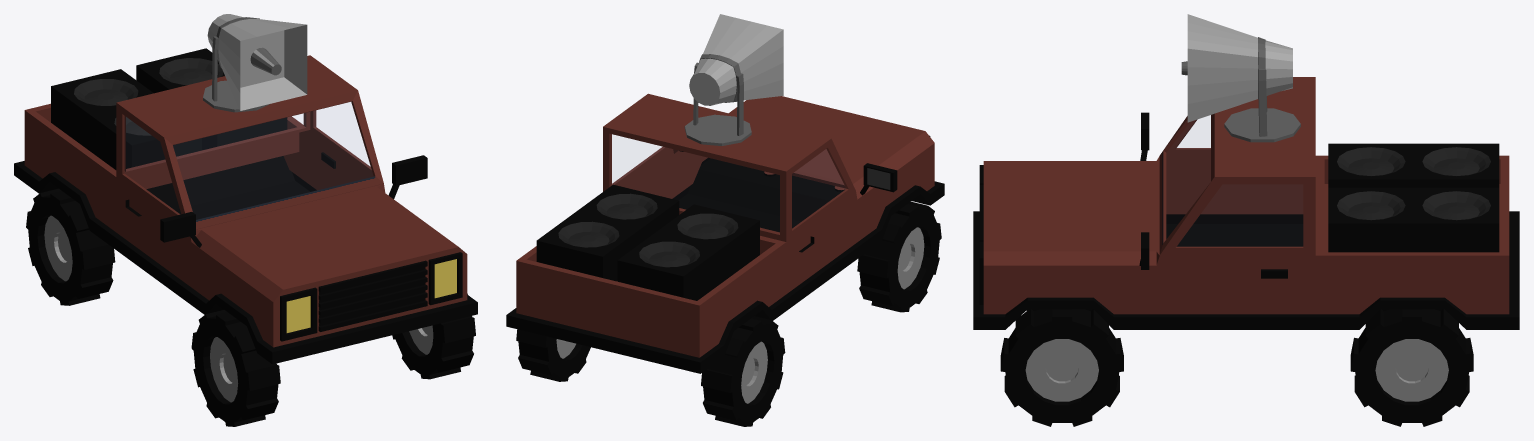
The model's file is buggy.fbx.
3 views of the same model, side by side, from view 1: azimuth 30°, elevation 25°; view 2: azimuth 150°, elevation 25°; view 3: azimuth 270°, elevation 25° (orthographic). The views are drawn at different scales.
Visible parts, largest first — view 1: car, megaphone, wheel_2, wheel_3, speaker_2, wheel_1, speaker_1; view 2: car, speaker_2, megaphone, speaker_1, wheel_3, wheel_2, wheel_4; view 3: car, wheel_1, wheel_4, speaker_1, megaphone, speaker_2.
Part boxes in pixels (left/top/right/bottom): car: left=14, top=55, right=477, bottom=364; megaphone: left=203, top=14, right=307, bottom=112; wheel_2: left=191, top=310, right=280, bottom=426; wheel_3: left=26, top=188, right=115, bottom=305; speaker_2: left=51, top=69, right=201, bottom=169; wheel_1: left=392, top=293, right=475, bottom=379; speaker_1: left=136, top=48, right=287, bottom=150; car: left=506, top=93, right=944, bottom=373; speaker_2: left=617, top=204, right=759, bottom=300; megaphone: left=684, top=14, right=783, bottom=145; speaker_1: left=536, top=184, right=679, bottom=281; wheel_3: left=701, top=316, right=785, bottom=426; wheel_2: left=857, top=201, right=941, bottom=312; wheel_4: left=516, top=329, right=590, bottom=381; car: left=973, top=77, right=1519, bottom=329; wheel_1: left=1000, top=309, right=1123, bottom=426; wheel_4: left=1350, top=309, right=1473, bottom=426; speaker_1: left=1328, top=187, right=1499, bottom=252; megaphone: left=1181, top=14, right=1300, bottom=142; speaker_2: left=1328, top=143, right=1499, bottom=187.
Bounding box in the file's own units: 1.9 × 2.19 × 3.22.
